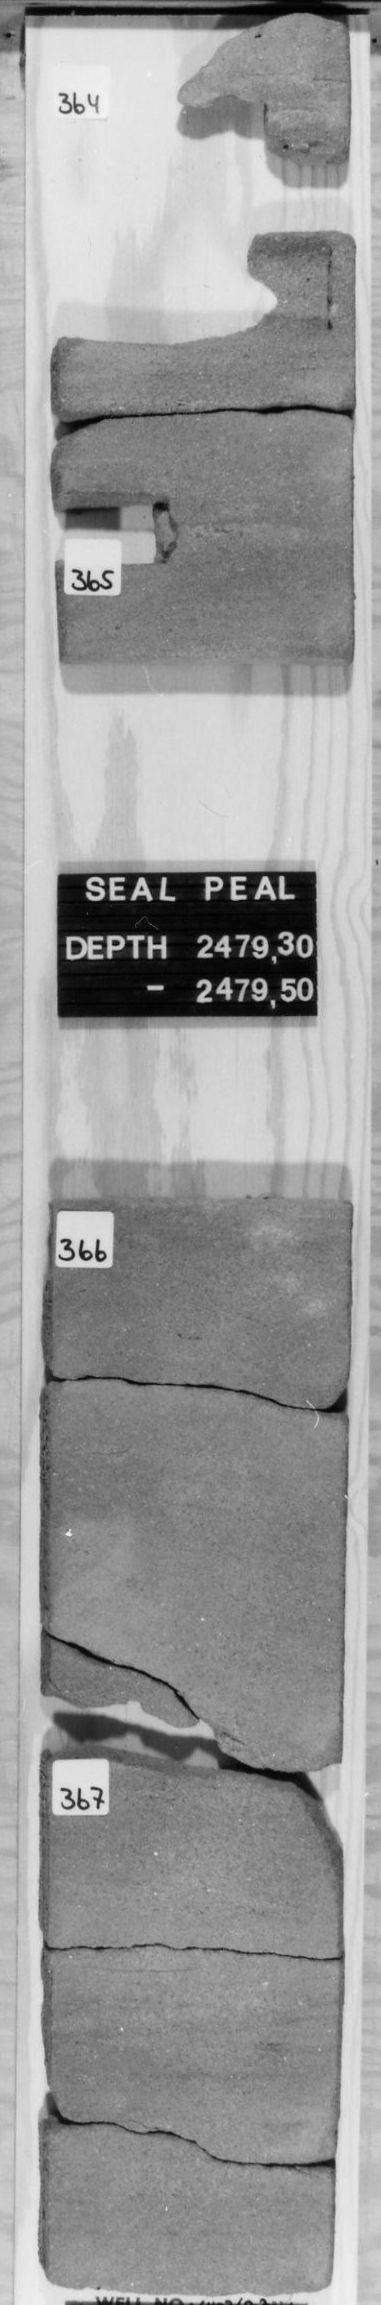hplug: (46, 1679, 243, 1786), (57, 485, 185, 572)
scal: (54, 237, 337, 354)
vplug: (207, 85, 277, 150)
